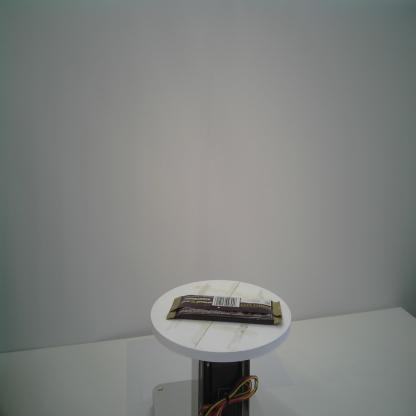Chocolate: (166, 292, 284, 326)
